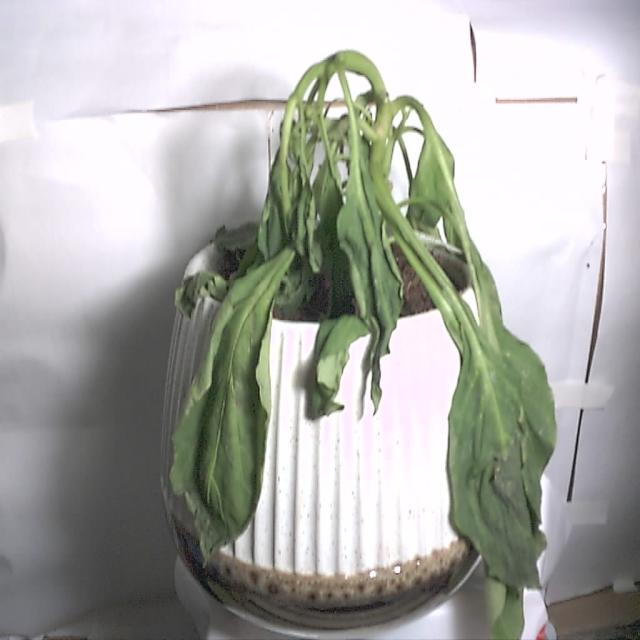Leaf: (445, 317, 558, 592), (170, 296, 272, 563), (337, 170, 406, 413)
